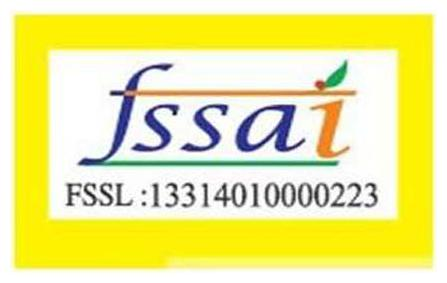fssai: (75, 62, 357, 168)
